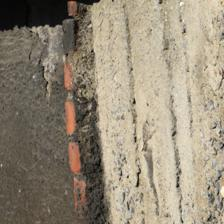Crack: (10, 13, 55, 86)
